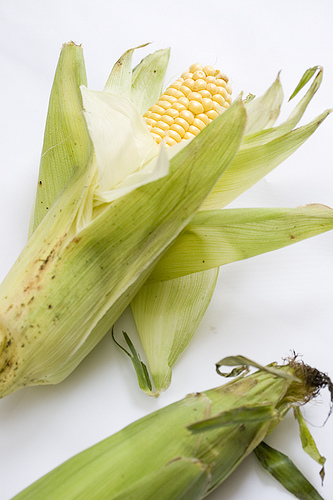corn: (0, 40, 331, 397), (8, 346, 331, 498)
